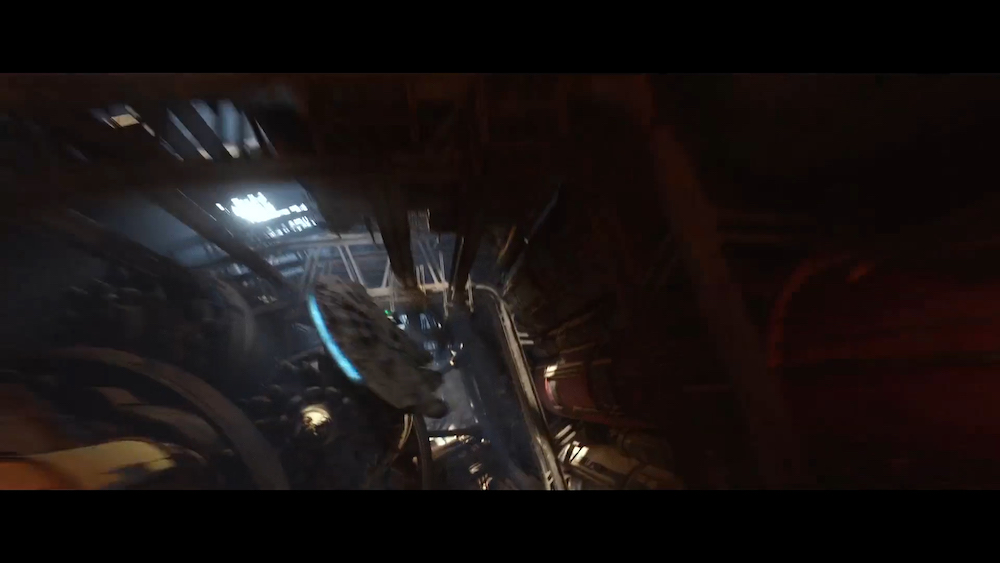Millennium Falcon: (304, 273, 453, 422)
